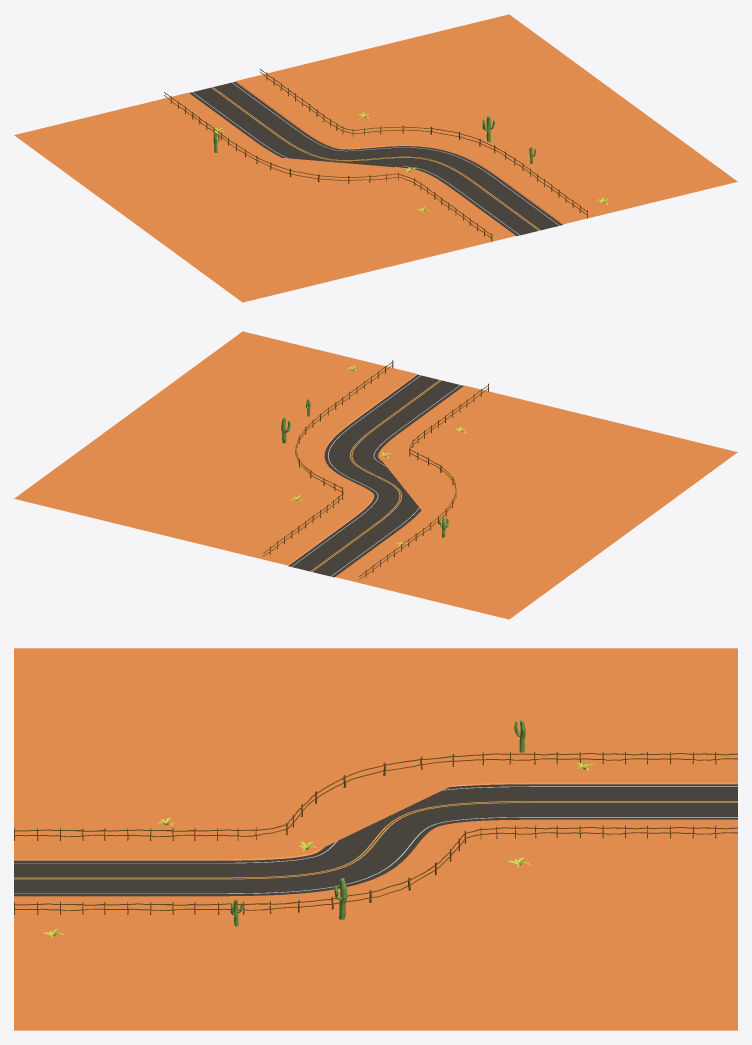
Rendered from DesertRoadStraight4.fbx.
The picture shows the model from 3 angles, top to bottom: view 1: azimuth 30°, elevation 25°; view 2: azimuth 150°, elevation 25°; view 3: azimuth 270°, elevation 25°; orthographic projection. The views are drawn at different scales.
Parts seen in each view (by area): view 1: DRS4Road, DRS4WoodFenceRight, DRS4WoodFenceLeft; view 2: DRS4Road, DRS4WoodFenceRight, DRS4WoodFenceLeft; view 3: DRS4Road, DRS4WoodFenceLeft, DRS4WoodFenceRight.
Boxes of the visible parts, <box> form: DRS4Road: <box>14,14,737,302</box>; DRS4WoodFenceRight: <box>260,69,587,218</box>; DRS4WoodFenceLeft: <box>164,92,492,241</box>; DRS4Road: <box>14,331,737,619</box>; DRS4WoodFenceRight: <box>263,360,393,556</box>; DRS4WoodFenceLeft: <box>359,383,488,579</box>; DRS4Road: <box>14,648,737,1030</box>; DRS4WoodFenceLeft: <box>14,751,737,840</box>; DRS4WoodFenceRight: <box>14,825,737,914</box>.
Size of what is drawn, in the model's own units: 15000 by 766 by 12000.
